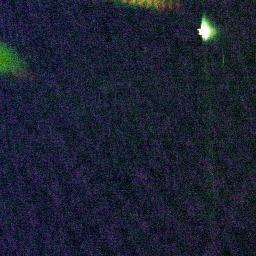Ship: (196, 15, 218, 41)
